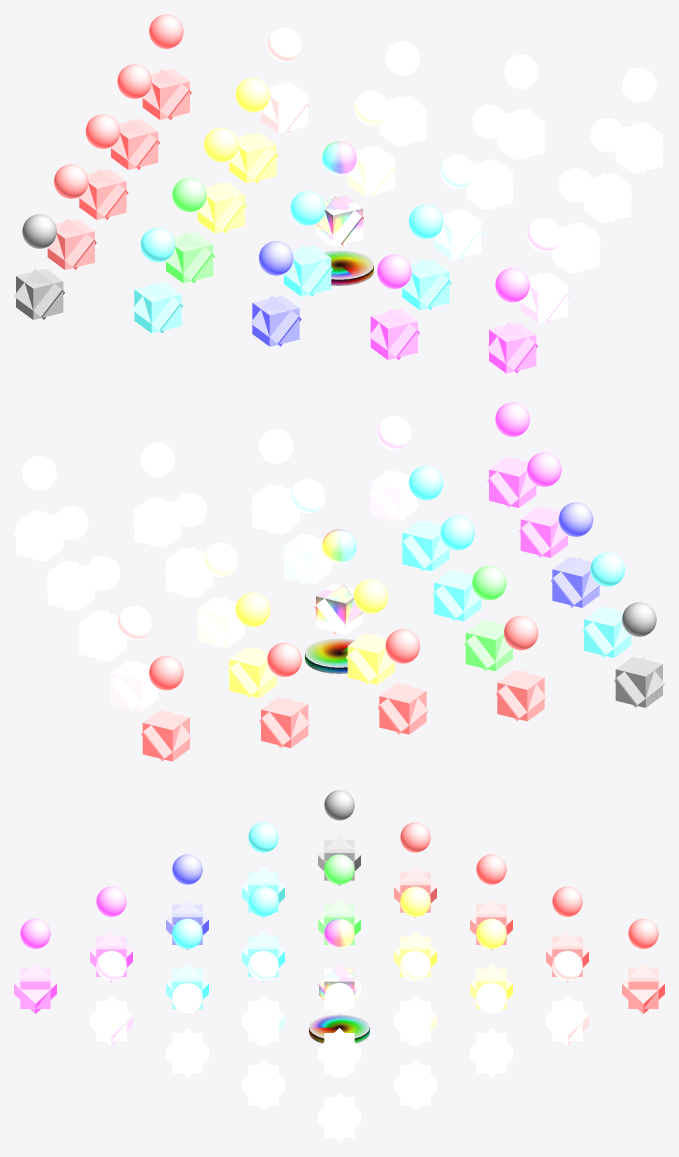
The model's file is emissive.gltf.
3 views of the same model, one above another, from view 1: azimuth 30°, elevation 25°; view 2: azimuth 150°, elevation 25°; view 3: azimuth 270°, elevation 25° (orthographic). The views are drawn at different scales.
Visible parts, largest first — view 1: cube (×25), sphere (×25), diamond (×25), base; view 2: cube (×25), sphere (×25), diamond (×25), base; view 3: sphere (×25), diamond (×9), cube (×9), base.
Part boxes in pixels (<box>): cube (×25): <box>16,69,662,373</box>; sphere (×25): <box>22,14,656,302</box>; diamond (×25): <box>14,69,664,373</box>; base: <box>323,250,373,285</box>; cube (×25): <box>16,457,662,761</box>; sphere (×25): <box>22,402,656,690</box>; diamond (×25): <box>14,457,664,761</box>; base: <box>305,638,355,673</box>; sphere (×25): <box>20,790,658,1077</box>; diamond (×9): <box>14,964,664,1142</box>; cube (×9): <box>20,968,658,1137</box>; base: <box>309,1014,369,1043</box>.
Size of the model in its own units: 10.85 by 2.05 by 10.71.
Materials: 26 (1 with a texture image).
